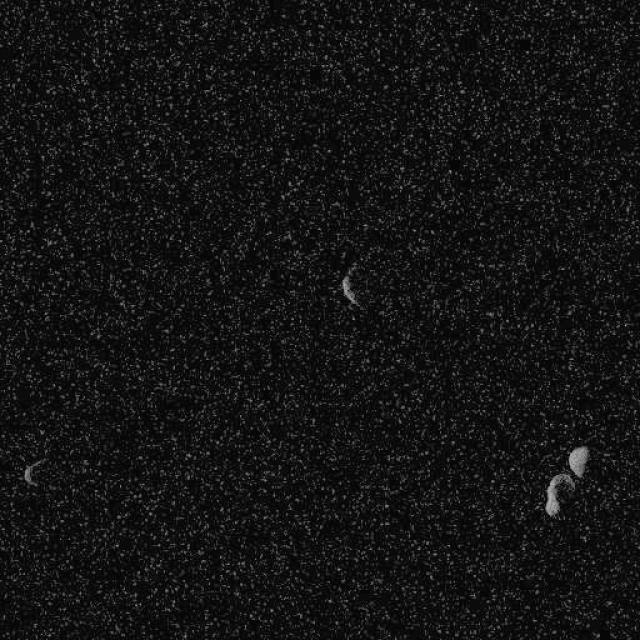D2: (544, 472, 575, 518), (340, 260, 364, 308), (22, 455, 48, 487), (568, 445, 588, 477)
